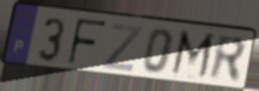0: (141, 26, 175, 77)
3: (36, 16, 66, 64)
F: (66, 16, 109, 68)
M: (168, 28, 218, 83)
R: (207, 33, 248, 85)
Z: (102, 22, 144, 73)
